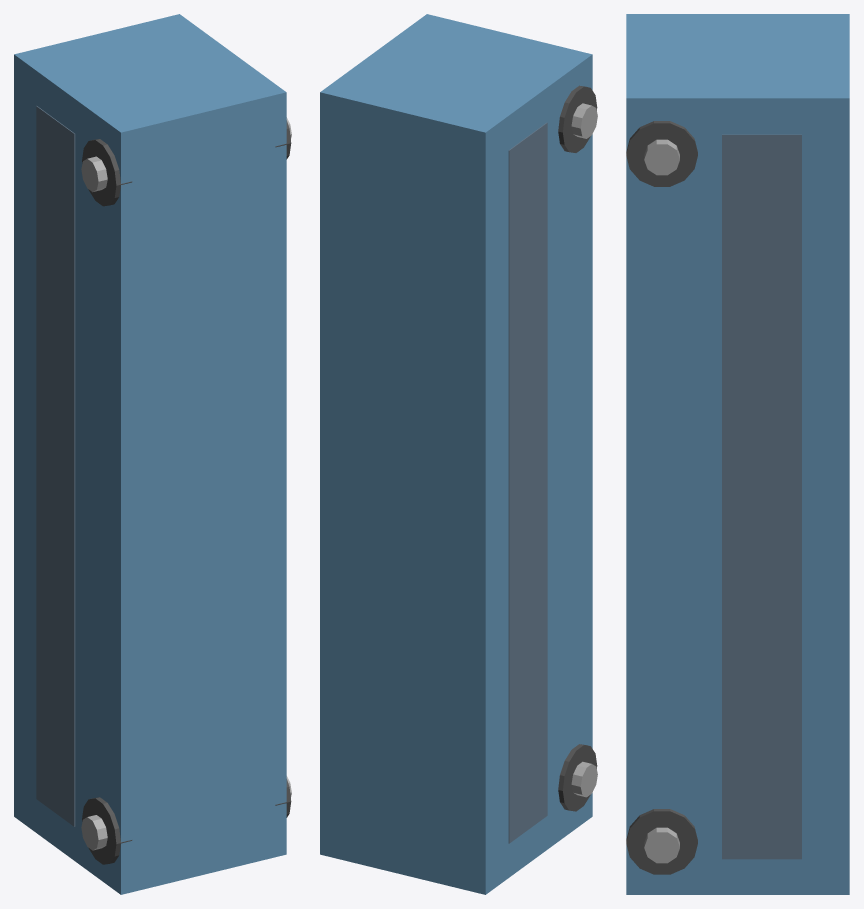
The model's file is transit_bus.glb.
3 renders of one model, left to right at view 1: azimuth 30°, elevation 25°; view 2: azimuth 150°, elevation 25°; view 3: azimuth 270°, elevation 25°, orthographic. The views are drawn at different scales.
Parts seen in each view (by area): view 1: body, glass, wheel_-1_-1, wheel_-1_1, hub_-1_-1, hub_-1_1; view 2: body, glass, wheel_-1_1, wheel_-1_-1, hub_-1_1, hub_-1_-1; view 3: body, glass, wheel_1_-1, wheel_1_1, hub_1_1, hub_1_-1.
Part boxes in pixels (box(x1,y1,x2,y2)): body: box(14, 14, 286, 894); glass: box(36, 106, 75, 826); wheel_-1_-1: box(82, 797, 132, 864); wheel_-1_1: box(82, 139, 132, 206); hub_-1_-1: box(81, 815, 107, 850); hub_-1_1: box(81, 156, 107, 192); body: box(320, 14, 592, 894); glass: box(508, 122, 547, 843); wheel_-1_1: box(558, 85, 597, 152); wheel_-1_-1: box(558, 744, 597, 811); hub_-1_1: box(571, 103, 597, 138); hub_-1_-1: box(571, 761, 597, 797); body: box(626, 14, 849, 894); glass: box(722, 134, 801, 859); wheel_1_-1: box(626, 809, 697, 874); wheel_1_1: box(626, 121, 697, 186); hub_1_1: box(644, 139, 679, 175); hub_1_-1: box(644, 827, 679, 863).
Bounding box in the file's own units: 2.92 × 11 × 2.8.
